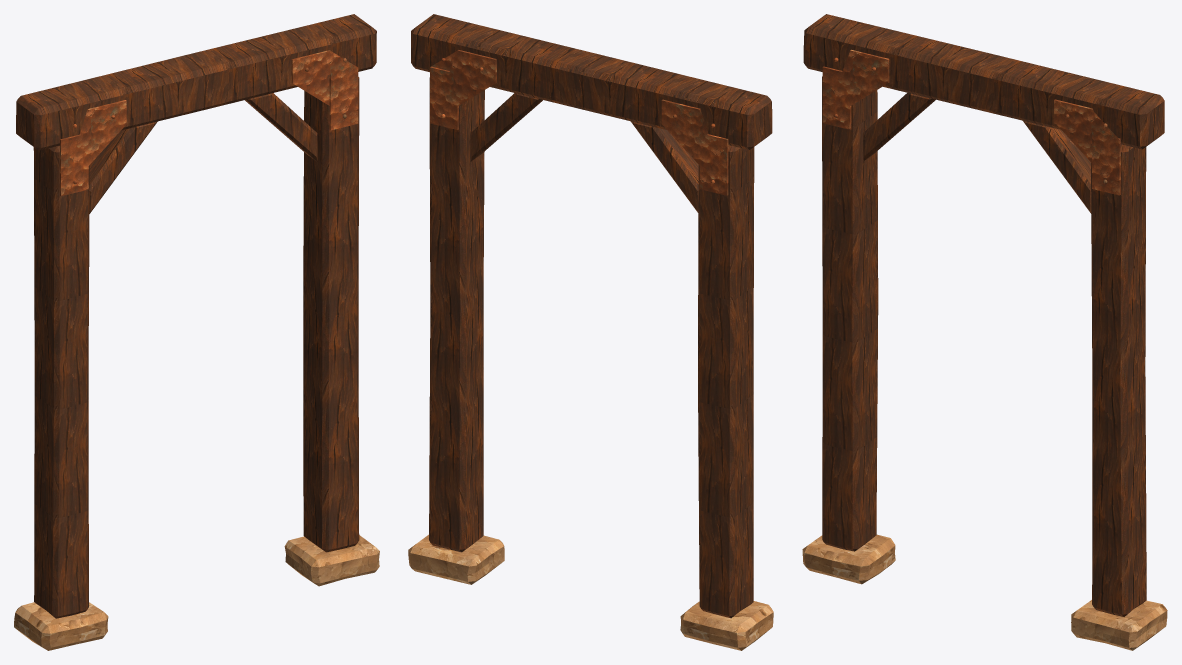
The model's file is mine_prop__clay_brick.glb.
3 renders of one model, left to right at view 1: azimuth 30°, elevation 25°; view 2: azimuth 150°, elevation 25°; view 3: azimuth 330°, elevation 25°, orthographic.
Parts seen in each view (by area): view 1: model; view 2: model; view 3: model.
Part boxes in pixels (box(x1,y1,x2,y2)): model: box(14, 14, 379, 650); model: box(408, 14, 773, 650); model: box(802, 14, 1167, 650).
Bounding box in the file's own units: 1.98 × 2.99 × 0.3549.
Materials: 3 (3 with a texture image).
